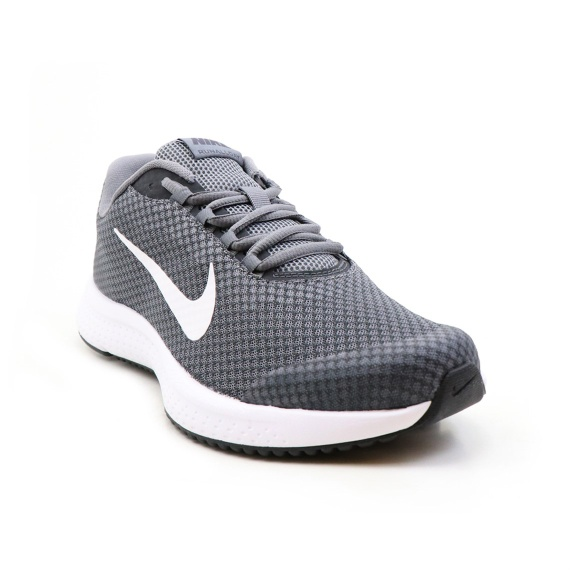nike: (112, 226, 221, 345)
